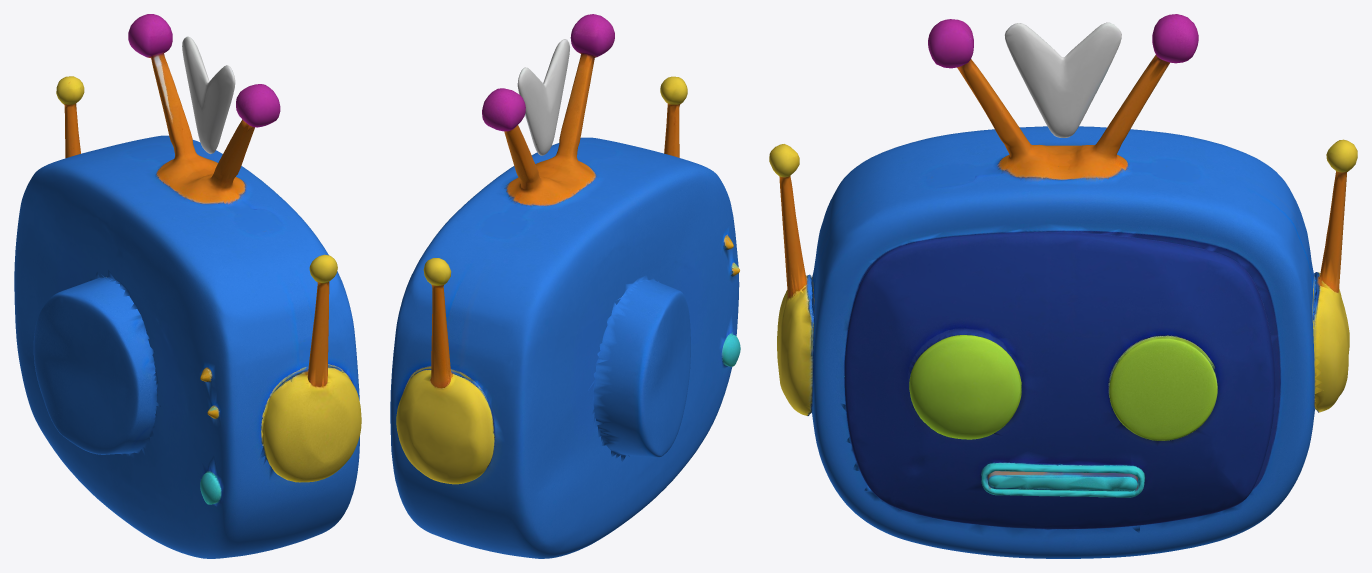
Rendered from toy.glb.
3 views of the same model, side by side, from view 1: azimuth 30°, elevation 25°; view 2: azimuth 150°, elevation 25°; view 3: azimuth 270°, elevation 25° (orthographic). The views are drawn at different scales.
Parts seen in each view (by area): view 1: tripo_part_0, tripo_part_2, tripo_part_6, tripo_part_5, tripo_part_4, tripo_part_8, tripo_part_11, tripo_part_3, tripo_part_13; view 2: tripo_part_0, tripo_part_2, tripo_part_3, tripo_part_4, tripo_part_5, tripo_part_8, tripo_part_11, tripo_part_13; view 3: tripo_part_1, tripo_part_0, tripo_part_7, tripo_part_10, tripo_part_8, tripo_part_3, tripo_part_4, tripo_part_5, tripo_part_6, tripo_part_12, tripo_part_11, tripo_part_9.
Boxes of the visible parts, x1,y1,x2,y2 form: tripo_part_0: [14, 135, 359, 558]; tripo_part_2: [33, 271, 160, 456]; tripo_part_6: [259, 366, 361, 482]; tripo_part_5: [128, 14, 217, 187]; tripo_part_4: [172, 84, 280, 205]; tripo_part_8: [182, 36, 235, 153]; tripo_part_11: [307, 254, 337, 387]; tripo_part_3: [56, 76, 84, 158]; tripo_part_13: [200, 472, 221, 504]; tripo_part_0: [390, 137, 739, 558]; tripo_part_2: [588, 279, 690, 462]; tripo_part_3: [396, 258, 495, 484]; tripo_part_4: [535, 14, 614, 187]; tripo_part_5: [482, 88, 580, 207]; tripo_part_8: [517, 39, 569, 155]; tripo_part_11: [660, 76, 687, 157]; tripo_part_13: [722, 334, 740, 366]; tripo_part_1: [840, 231, 1275, 533]; tripo_part_0: [811, 126, 1323, 558]; tripo_part_7: [909, 332, 1021, 439]; tripo_part_10: [1109, 338, 1217, 440]; tripo_part_8: [1004, 22, 1121, 137]; tripo_part_3: [1313, 139, 1357, 412]; tripo_part_4: [928, 19, 1060, 182]; tripo_part_5: [1067, 14, 1198, 182]; tripo_part_6: [777, 272, 814, 415]; tripo_part_12: [987, 471, 1139, 491]; tripo_part_11: [769, 144, 807, 300]; tripo_part_9: [981, 462, 1144, 497].
Size of the model in its own units: 0.5149 by 0.9732 by 1.
Materials: 18 (18 with a texture image).
